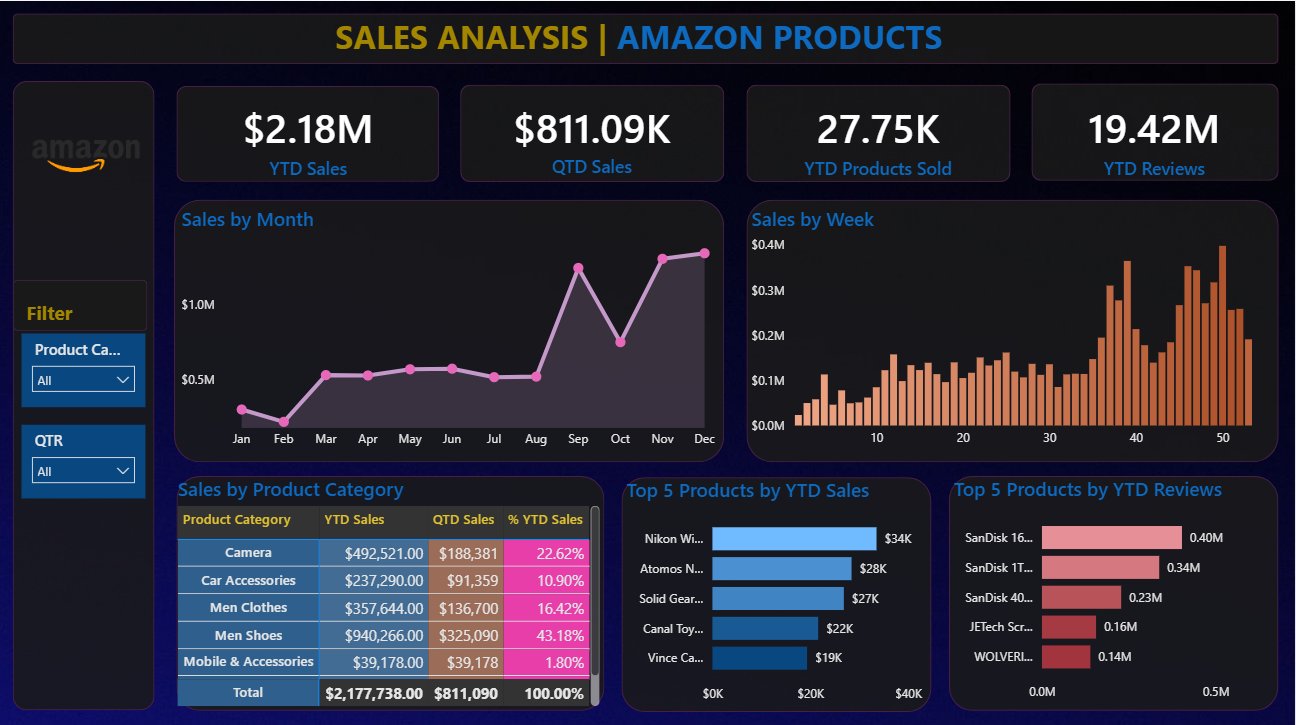

This screenshot's page, from the dashboard's own definition file:
{"tool":"powerbi","page":{"name":"Amazon Product Sales","canvas":[1280,720],"ordinal":0},"visuals":[{"type":"shape","box":[13.7,12.3,1250.1,50],"z":1000},{"type":"textbox","box":[326.6,8.2,625.7,53.5],"z":2000},{"type":"shape","box":[13.7,79.6,140,621.6],"z":3000},{"type":"image","box":[0,79.6,171.5,148.2],"z":3500},{"type":"shape","box":[175.6,83.7,259.3,94.7],"z":4000},{"type":"cardVisual","fields":{"Data":["Amazon_Data.YTD Sales"]},"box":[175.6,82.3,260.7,107],"z":5000},{"type":"shape","box":[456,82.3,260.7,96.1],"z":6000},{"type":"shape","box":[737.8,82.3,260.7,96.1],"z":7000},{"type":"shape","box":[1019.6,81,244.3,96.1],"z":8000},{"type":"cardVisual","fields":{"Data":["Amazon_Data.QTD Sales"]},"box":[455.6,81,260.7,108.4],"z":9000},{"type":"cardVisual","fields":{"Data":["Amazon_Data.YTD Products Sold"]},"box":[738.3,82.3,260.7,107],"z":10000},{"type":"cardVisual","fields":{"Data":["Amazon_Data.YTD Reviews"]},"box":[1011.3,82.3,260.7,107],"z":11000},{"type":"shape","box":[172.9,196.5,543.4,259.3],"z":12000},{"type":"areaChart","title":"Sales by Month","fields":{"Category":["Date Table.Month Name"],"Y":["Sum(Amazon_Data.Price(Dollar))"]},"box":[175.6,203.1,543.4,248.4],"z":13000},{"type":"shape","box":[738.3,196.5,525.6,259.3],"z":14000},{"type":"clusteredColumnChart","title":"Sales by Week","fields":{"Category":["Date Table.Week"],"Y":["Sum(Amazon_Data.Price(Dollar))"]},"box":[738.3,203.1,525.6,247],"z":15000},{"type":"shape","box":[175.6,469.3,422.6,231.9],"z":16000},{"type":"pivotTable","title":"Sales by Product Category","fields":{"Rows":["Amazon_Data.Product Category"],"Values":["Amazon_Data.YTD Sales1","Amazon_Data.QTD Sales","Amazon_Data.YTD Sales"]},"box":[171.5,469.3,426.8,231.9],"z":17000},{"type":"shape","box":[614.8,470.7,306,231.9],"z":18000},{"type":"shape","box":[938.6,469.3,325.2,231.9],"z":19000},{"type":"clusteredBarChart","title":"Top 5 Products by YTD Sales","fields":{"Category":["Amazon_Data.Product Description"],"Y":["Amazon_Data.YTD Sales"]},"box":[614.8,470.7,306,231.9],"z":20000},{"type":"clusteredBarChart","title":"Top 5 Products by YTD Reviews","fields":{"Category":["Amazon_Data.Product Description"],"Y":["Amazon_Data.YTD Reviews"]},"box":[938.6,469.3,317,231.9],"z":21000},{"type":"slicer","fields":{"Values":["Amazon_Data.Product Category"]},"box":[22,328,122.1,72.7],"z":22000},{"type":"slicer","fields":{"Values":["Date Table.QTR"]},"box":[22,418.5,122.1,72.7],"z":23000},{"type":"shape","box":[13.7,275.8,133.1,50.8],"z":24000},{"type":"textbox","box":[22,289.5,122.1,37],"z":25000}]}

Visuals, with their boxes in screenshot pixels (x1, y1, x2, y2), scaled from the page's 1280x720 canvas onto the 1296x725 screenshot:
shape: [14, 12, 1280, 63]
textbox: [331, 8, 964, 62]
shape: [14, 80, 156, 706]
image: [0, 80, 174, 229]
shape: [178, 84, 440, 180]
cardVisual - Amazon_Data.YTD Sales: [178, 83, 442, 191]
shape: [462, 83, 726, 180]
shape: [747, 83, 1011, 180]
shape: [1032, 82, 1280, 178]
cardVisual - Amazon_Data.QTD Sales: [461, 82, 725, 191]
cardVisual - Amazon_Data.YTD Products Sold: [748, 83, 1011, 191]
cardVisual - Amazon_Data.YTD Reviews: [1024, 83, 1288, 191]
shape: [175, 198, 725, 459]
"Sales by Month" areaChart: [178, 205, 728, 455]
shape: [748, 198, 1280, 459]
"Sales by Week" clusteredColumnChart: [748, 205, 1280, 453]
shape: [178, 473, 606, 706]
"Sales by Product Category" pivotTable: [174, 473, 606, 706]
shape: [622, 474, 932, 707]
shape: [950, 473, 1280, 706]
"Top 5 Products by YTD Sales" clusteredBarChart: [622, 474, 932, 707]
"Top 5 Products by YTD Reviews" clusteredBarChart: [950, 473, 1271, 706]
slicer - Amazon_Data.Product Category: [22, 330, 146, 403]
slicer - Date Table.QTR: [22, 421, 146, 495]
shape: [14, 278, 149, 329]
textbox: [22, 292, 146, 329]
